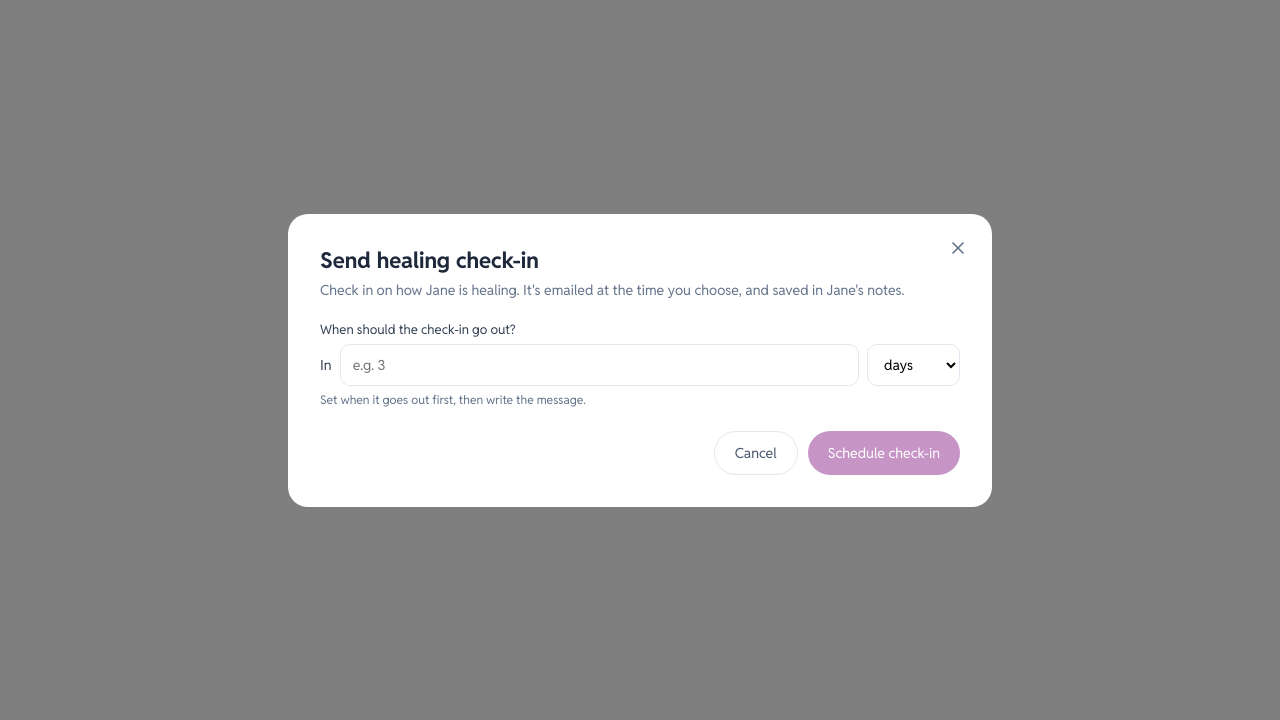
Test: HealingCheckInModal › lets AI write the message
Select "days" in the dropdown named "Days, weeks or months" at (914, 364), box [867,344,960,386]
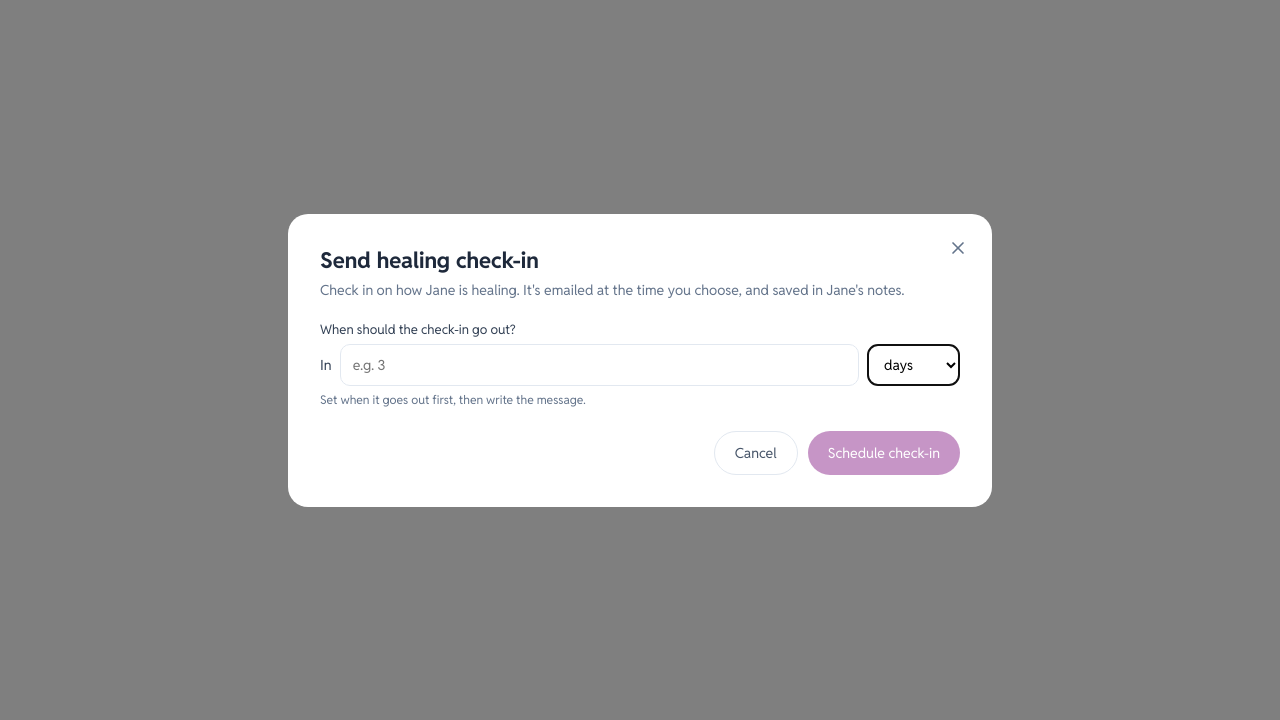
Type "3" into the number field named "How many".
click(599, 364); type("3")  # box [340,344,859,386]
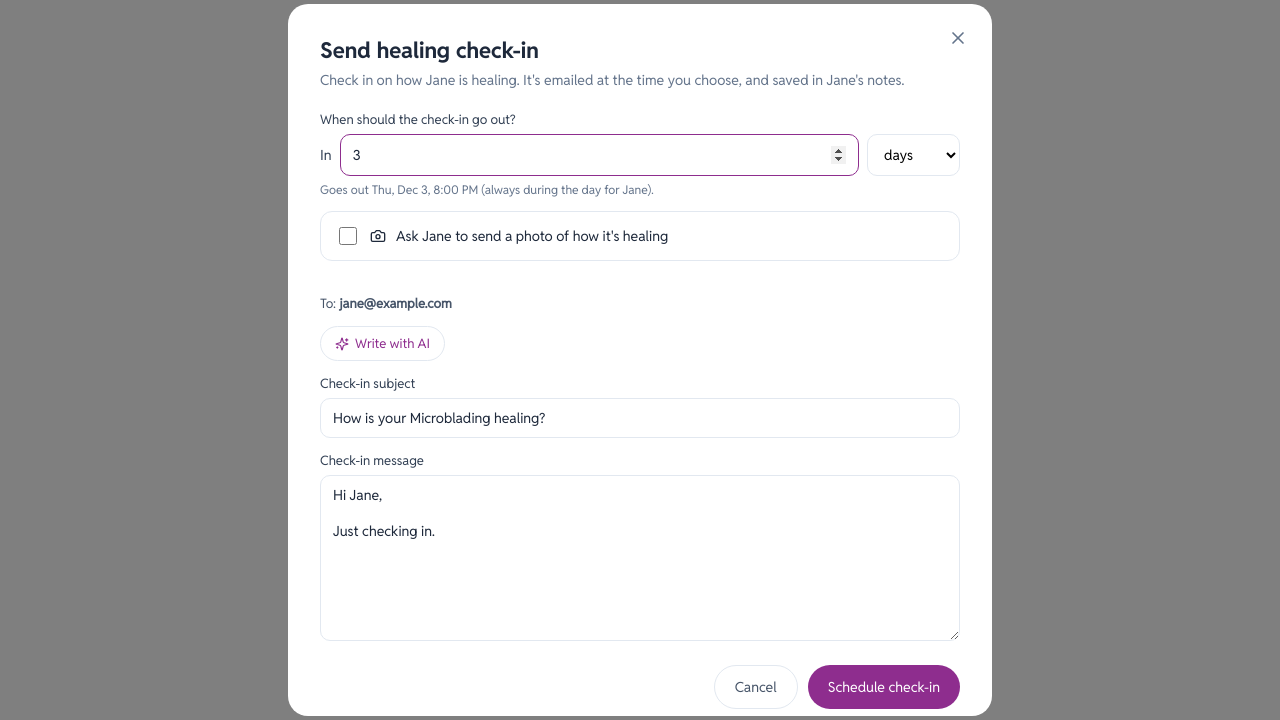
Click the button "Write with AI".
click(382, 344)  # box [320,326,445,361]
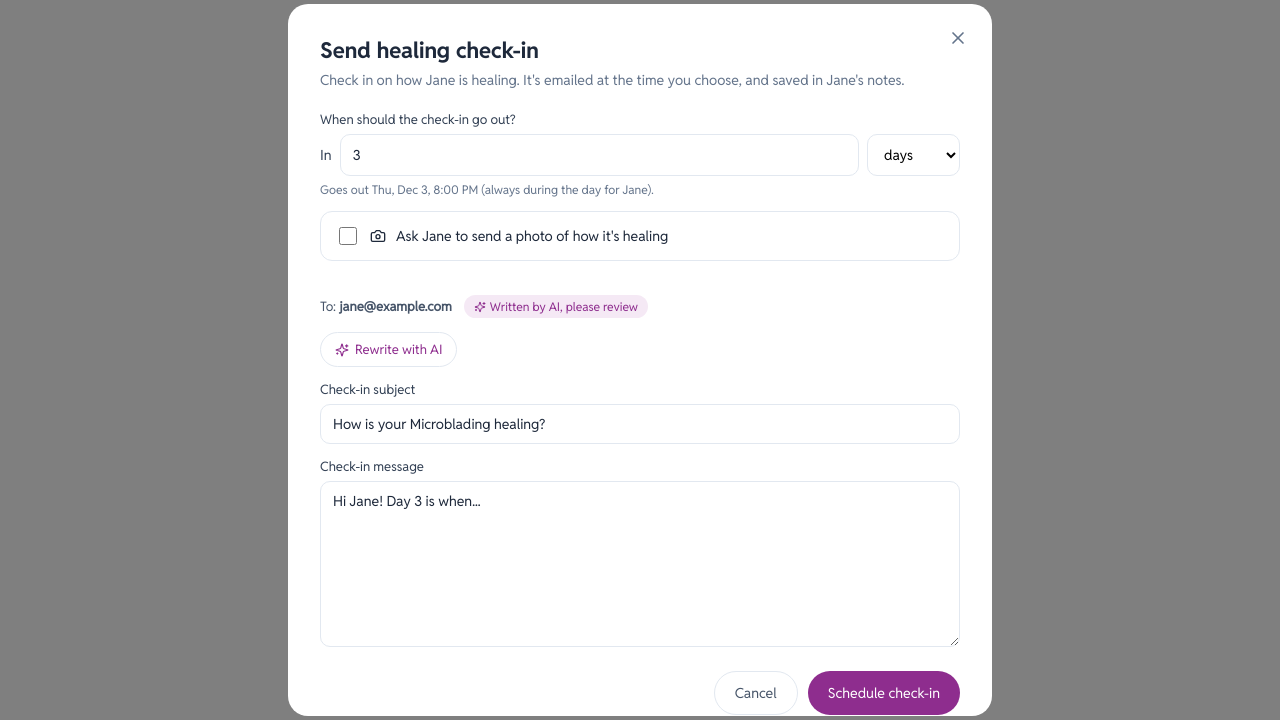
Now the text box labelled "Check-in message" holds "Hi Jane! Day 3 is when...", box [320,481,960,647]
Now the text "Written by AI, please review" is shown, box [464,295,648,318]
